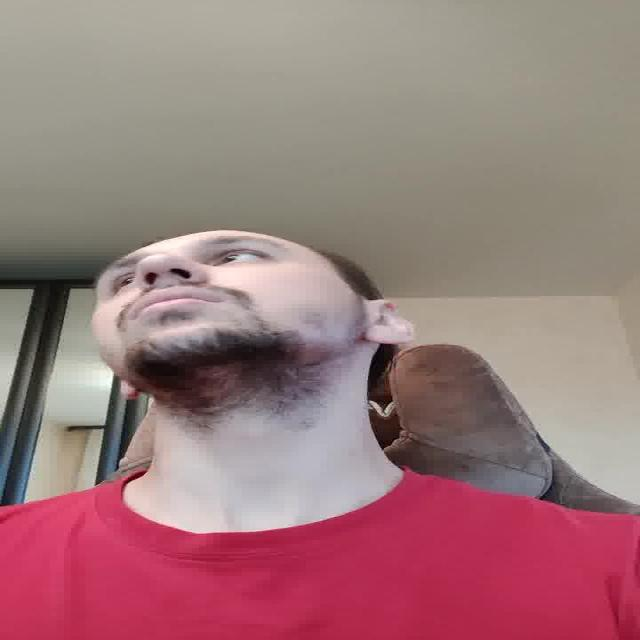earlobe: (366, 331, 415, 347), (116, 382, 143, 399)
eye: (210, 251, 267, 266), (110, 272, 139, 288)
nose: (137, 276, 205, 290)
wholeear: (365, 297, 417, 347)
